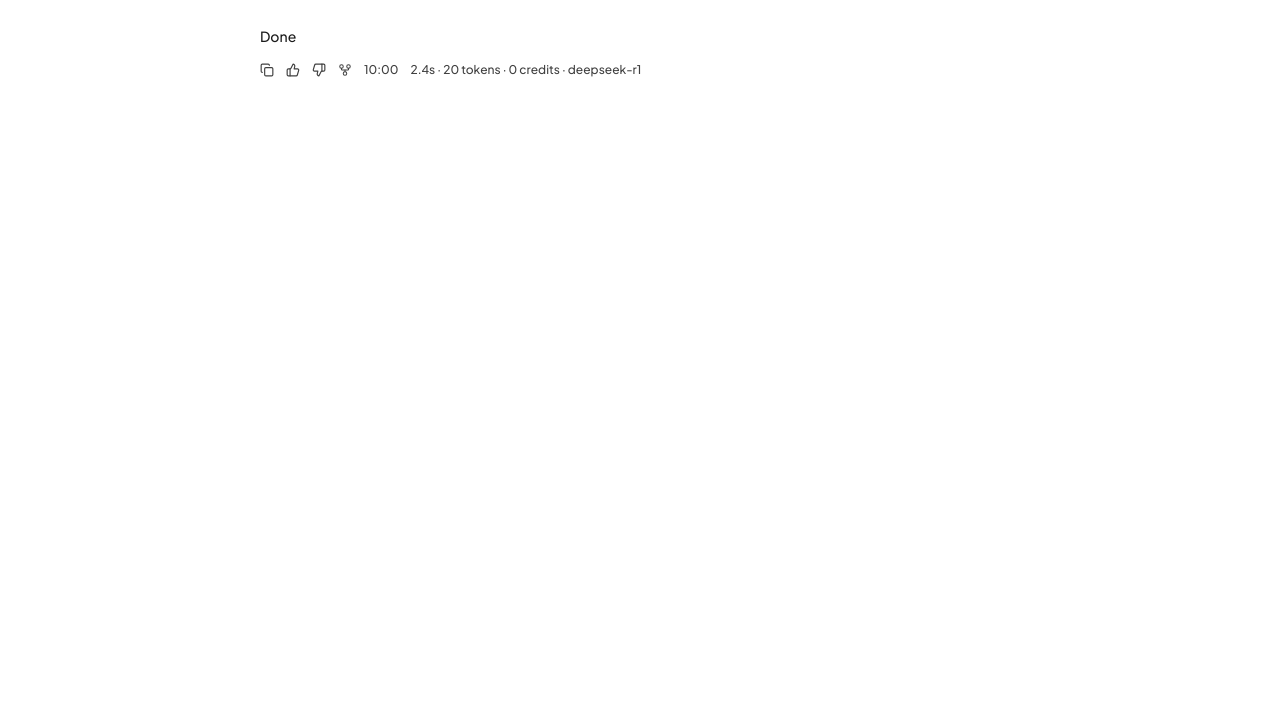
Test: MessageList › shows turn cost and token usage on a finished reply
The width and height of the screenshot is (1280, 720).
expect the text "2.4s · 20 tokens · 0 credits · deepseek-r1" is shown: met, box [410,60,641,80]
Step 1. Click the button named "Fork task" → (345, 70), box [338,63,352,77]
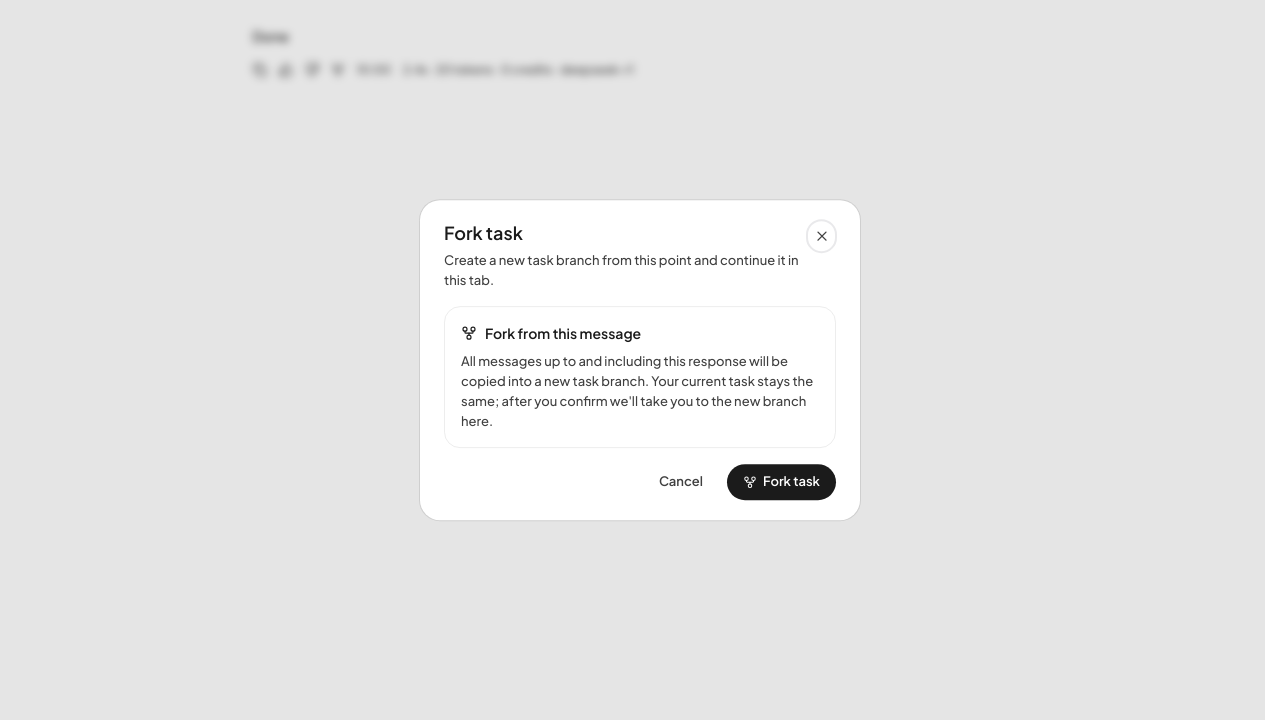
expect the heading "Fork task" is shown: met, box [444,221,523,244]
expect the text "Fork from this message" is shown: met, box [461,324,641,342]
